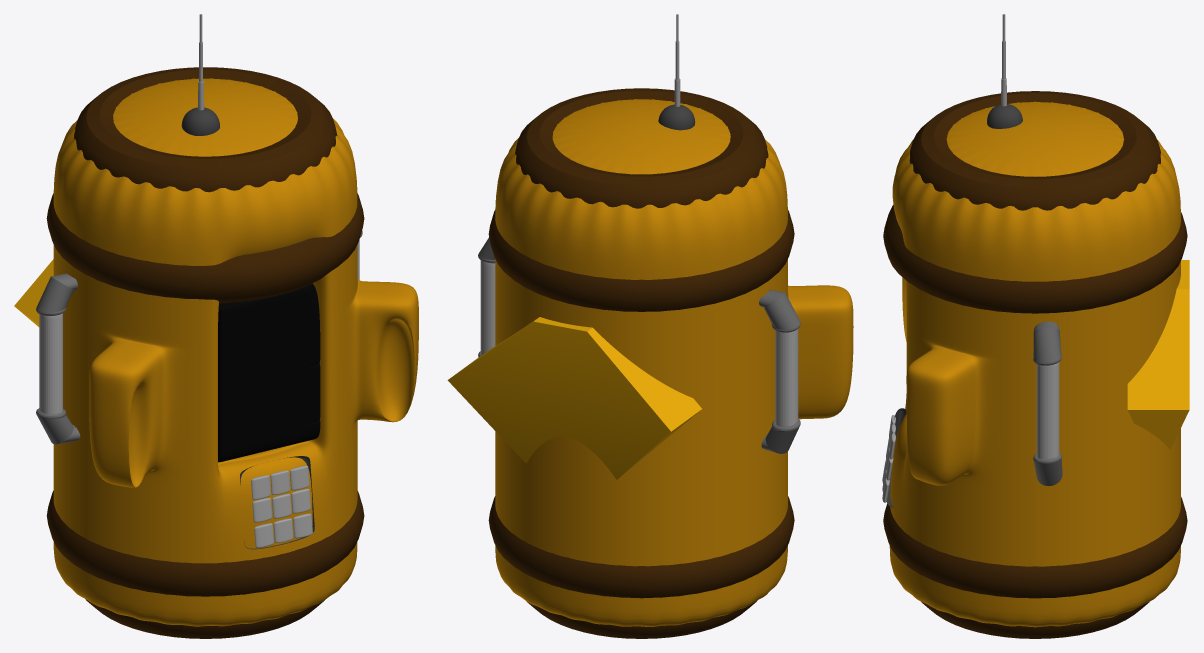
File: uploads_files_4952136_Capsula.fbx
The picture shows the model from 3 angles, left to right: view 1: azimuth 30°, elevation 25°; view 2: azimuth 150°, elevation 25°; view 3: azimuth 270°, elevation 25°; orthographic projection. The views are drawn at different scales.
Visible parts, largest first — view 1: Цилиндр, Куб.002, Torus.007, Torus, Torus.001, Torus.006, Куб.001, Torus.005, Torus.002, Куб.014, Куб.003; view 2: Цилиндр, Куб.014, Torus.007, Torus, Torus.001, Torus.006, Куб.001, Куб, Torus.005, Torus.002, Куб.003; view 3: Цилиндр, Torus.007, Torus, Torus.001, Куб.014, Torus.006, Куб, Torus.003, Torus.004, Куб.003.
Part boxes in pixels (x1,y1,x2,y2): Цилиндр: (53, 78, 418, 626); Куб.002: (218, 283, 320, 462); Torus.007: (74, 67, 337, 192); Torus: (46, 193, 364, 303); Torus.001: (46, 490, 364, 596); Torus.006: (85, 599, 324, 638); Куб.001: (39, 313, 62, 414); Torus.005: (36, 273, 77, 315); Torus.002: (36, 408, 80, 444); Куб.014: (14, 259, 53, 326); Куб.003: (181, 107, 219, 135); Цилиндр: (495, 99, 853, 626); Куб.014: (447, 317, 701, 479); Torus.007: (515, 88, 768, 208); Torus: (488, 210, 794, 311); Torus.001: (488, 496, 794, 598); Torus.006: (527, 600, 757, 638); Куб.001: (775, 329, 798, 426); Куб: (480, 260, 495, 354); Torus.005: (759, 290, 800, 332); Torus.002: (761, 419, 800, 453); Куб.003: (658, 104, 695, 130); Цилиндр: (889, 101, 1180, 627); Torus.007: (909, 91, 1160, 210); Torus: (883, 205, 1187, 313); Torus.001: (883, 497, 1187, 598); Куб.014: (1127, 260, 1189, 449); Torus.006: (921, 601, 1149, 638); Куб: (1036, 362, 1059, 458); Torus.003: (1033, 321, 1061, 365); Torus.004: (1033, 453, 1062, 486); Куб.003: (987, 104, 1022, 128).
Size of the model in its own units: 247 by 429 by 210.
